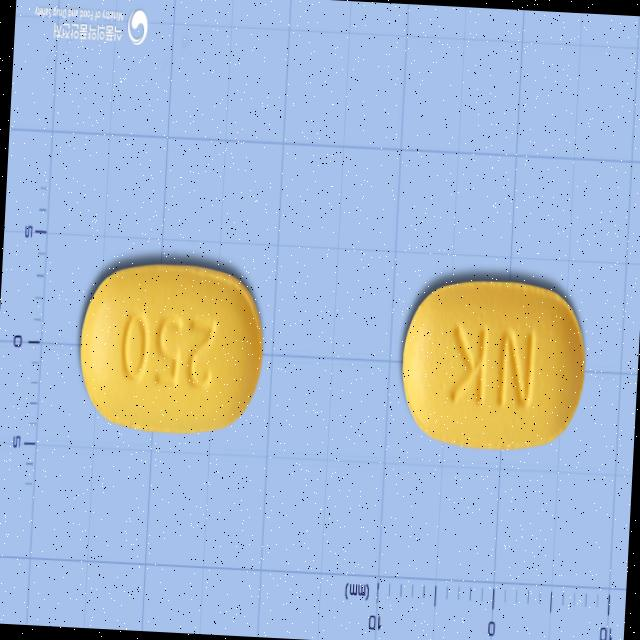Clara: (394, 268, 591, 456), (73, 256, 269, 442)
